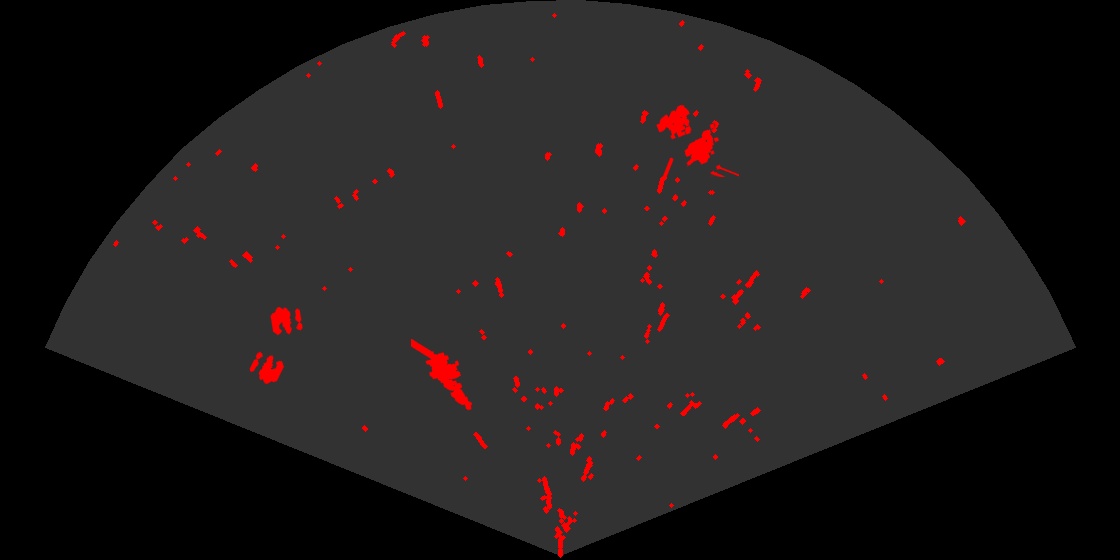ball: (248, 350, 286, 386), (269, 305, 304, 337)
cage: (655, 103, 739, 177)
frogman: (411, 339, 474, 412)
